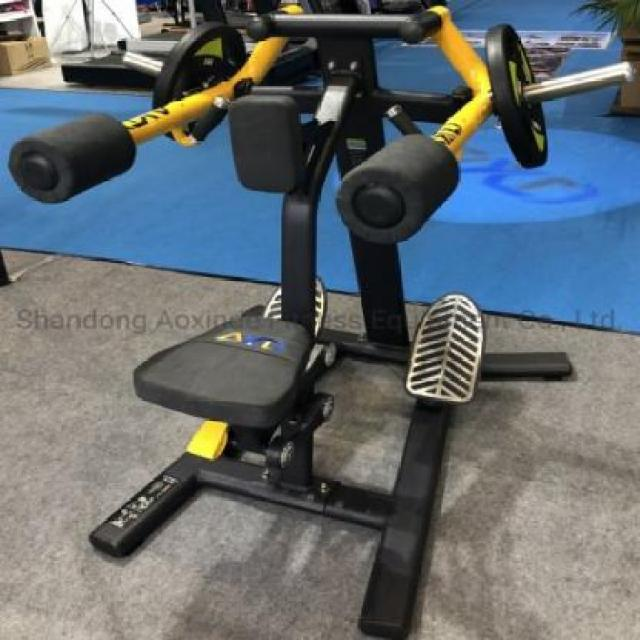lateral raises machine: (12, 5, 631, 637)
